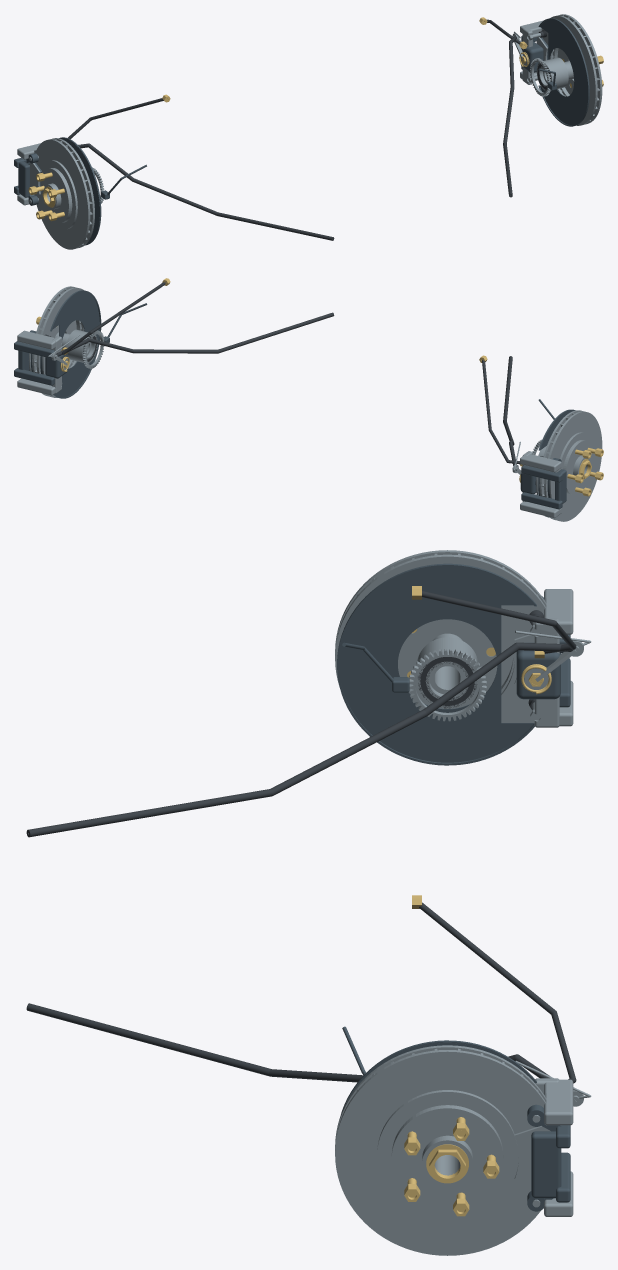
Rendered from structure-brakes-rear.glb.
The picture shows the model from 3 angles, top to bottom: view 1: azimuth 30°, elevation 25°; view 2: azimuth 150°, elevation 25°; view 3: azimuth 270°, elevation 25°; orthographic projection. The views are drawn at different scales.
Parts seen in each view (by area): view 1: BRK-RR-001, BRK-RL-014, BRK-RL-001, BRK-RR-031, BRK-RR-002, BRK-RR-014, BRK-RL-031, BRK-RR-022, BRK-RL-003, BRK-RL-021, BRK-RL-022, BRK-RR-034 (+1 smaller); view 2: BRK-RR-001, BRK-RL-014, BRK-RR-022, BRK-RL-022, BRK-RL-031, BRK-RL-001, BRK-RL-021, BRK-RR-021, BRK-RR-002, BRK-RR-031, BRK-RL-034, BRK-RL-003 (+1 smaller); view 3: BRK-RL-001, BRK-RR-014, BRK-RR-001, BRK-RL-002, BRK-RR-031, BRK-RL-022, BRK-RL-031, BRK-RR-021, BRK-RL-021, BRK-RR-022, BRK-RL-034, BRK-RR-015 (+6 smaller).
Boxes of the visible parts, x1,y1,x2,y2 form: BRK-RR-001: (34, 138, 94, 249); BRK-RL-014: (538, 18, 589, 126); BRK-RL-001: (542, 14, 602, 125); BRK-RR-031: (79, 143, 334, 240); BRK-RR-002: (41, 168, 72, 223); BRK-RR-014: (59, 137, 101, 245); BRK-RL-031: (503, 36, 516, 197); BRK-RR-022: (14, 153, 38, 205); BRK-RL-003: (536, 57, 568, 90); BRK-RL-021: (520, 20, 543, 84); BRK-RL-022: (521, 35, 543, 72); BRK-RR-034: (68, 98, 163, 138); BRK-RR-001: (539, 410, 602, 521); BRK-RL-014: (50, 290, 101, 398); BRK-RR-022: (520, 458, 566, 509); BRK-RL-022: (14, 330, 67, 385); BRK-RL-031: (56, 312, 334, 356); BRK-RL-001: (32, 286, 84, 397); BRK-RL-021: (17, 330, 61, 395); BRK-RR-021: (520, 451, 561, 518); BRK-RR-002: (563, 440, 593, 495); BRK-RR-031: (503, 356, 516, 465); BRK-RL-034: (62, 282, 165, 354); BRK-RL-003: (66, 329, 97, 363); BRK-RL-001: (335, 1045, 546, 1255); BRK-RR-014: (337, 563, 536, 765); BRK-RR-001: (335, 550, 546, 722); BRK-RL-002: (391, 1105, 503, 1209); BRK-RR-031: (26, 642, 574, 837); BRK-RL-022: (527, 1104, 570, 1211); BRK-RL-031: (26, 1003, 549, 1082); BRK-RR-021: (534, 589, 573, 727); BRK-RL-021: (535, 1078, 573, 1216); BRK-RR-022: (516, 596, 570, 707); BRK-RL-034: (419, 902, 576, 1083); BRK-RR-015: (409, 648, 486, 721).
Bounding box in the file's own units: 1.66 × 0.3789 × 0.7372.
